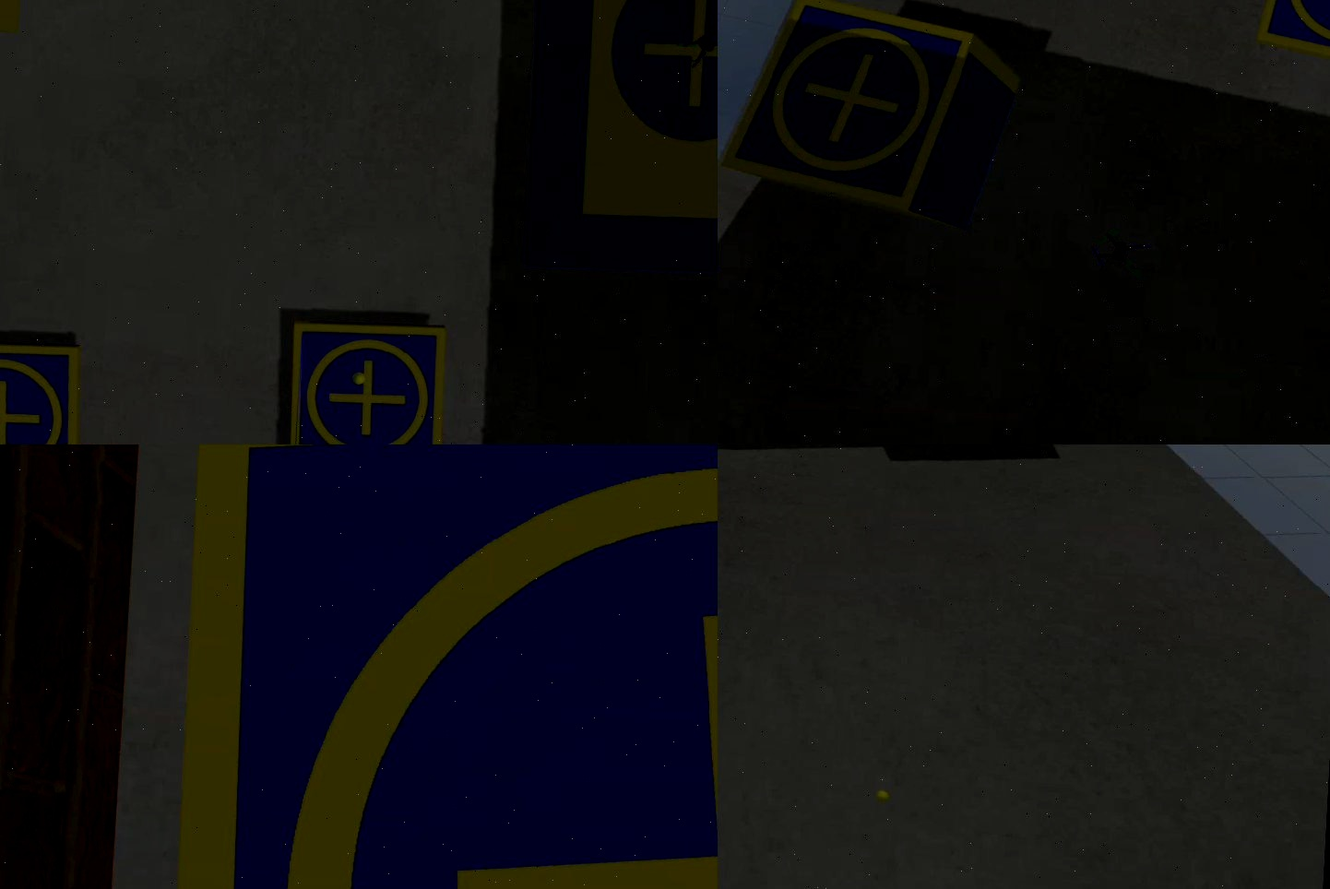large_base: (520, 1, 718, 282)
small_base: (160, 445, 718, 889), (718, 1, 980, 221), (283, 315, 448, 445), (1, 334, 84, 445)
